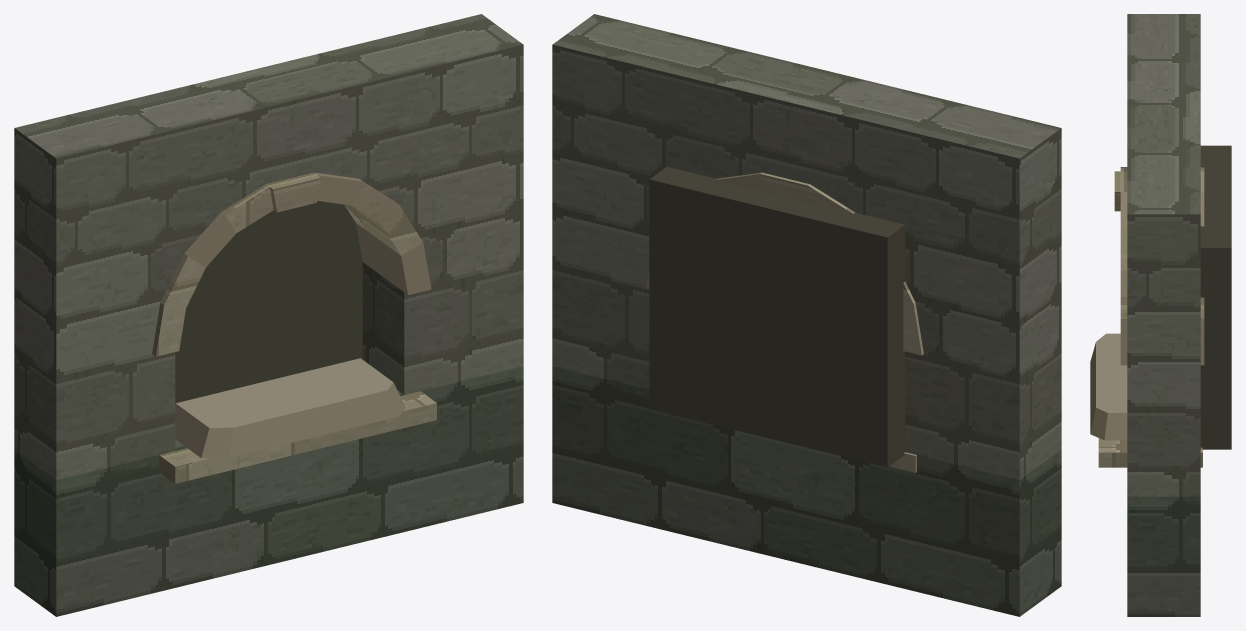
The model's file is burial_recess.glb.
The picture shows the model from 3 angles, left to right: view 1: azimuth 30°, elevation 25°; view 2: azimuth 150°, elevation 25°; view 3: azimuth 270°, elevation 25°; orthographic projection. The views are drawn at different scales.
Parts seen in each view (by area): view 1: Burial recess; view 2: Burial recess; view 3: Burial recess.
Boxes of the visible parts, <box> form: Burial recess: <box>14,14,523,616</box>; Burial recess: <box>552,14,1061,616</box>; Burial recess: <box>1090,14,1231,616</box>.
Size of the model in its own units: 2 by 1.88 by 0.595.
6 materials, 3 textured.
